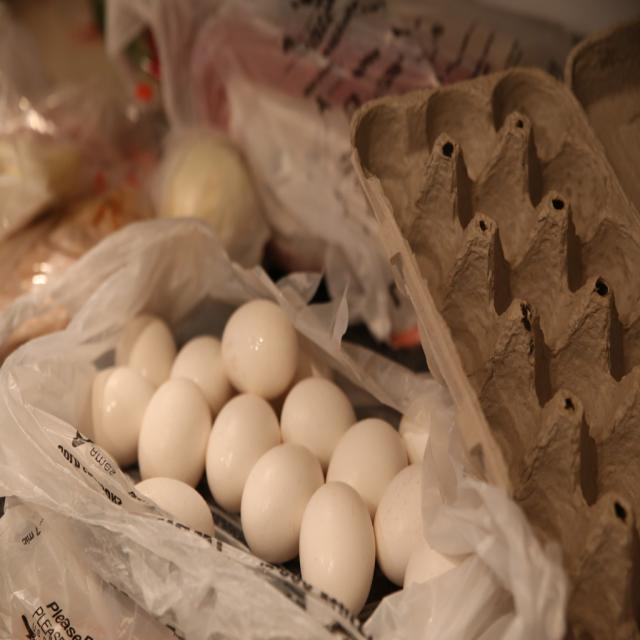Egg: (150, 367, 376, 537), (297, 484, 373, 618)
